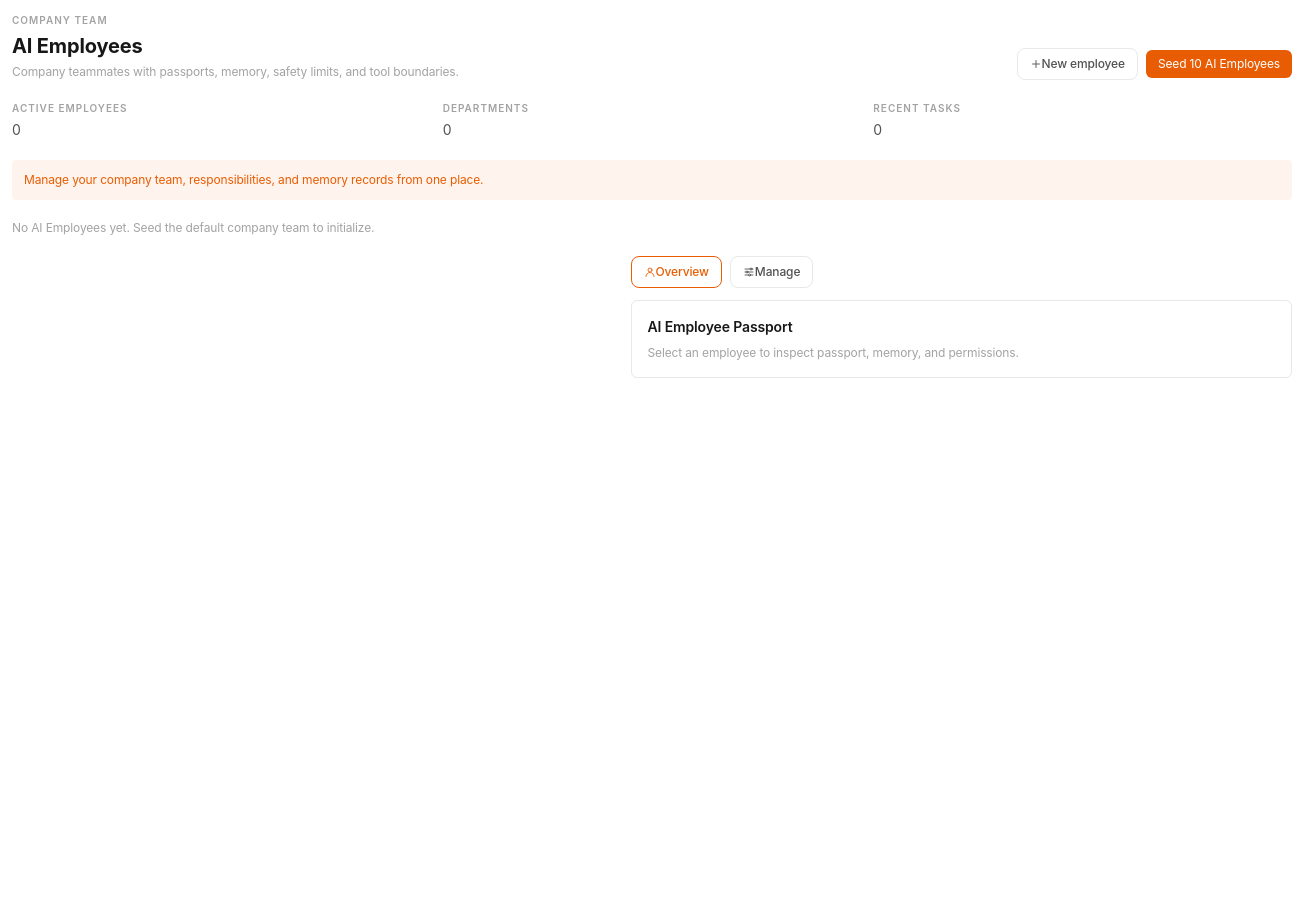
AI Employee passports › preserves the seed action for initializing the default employee team
The image size is (1304, 912).
Click the button "Seed 10 AI Employees" at (1219, 64), box [1146,50,1292,78]
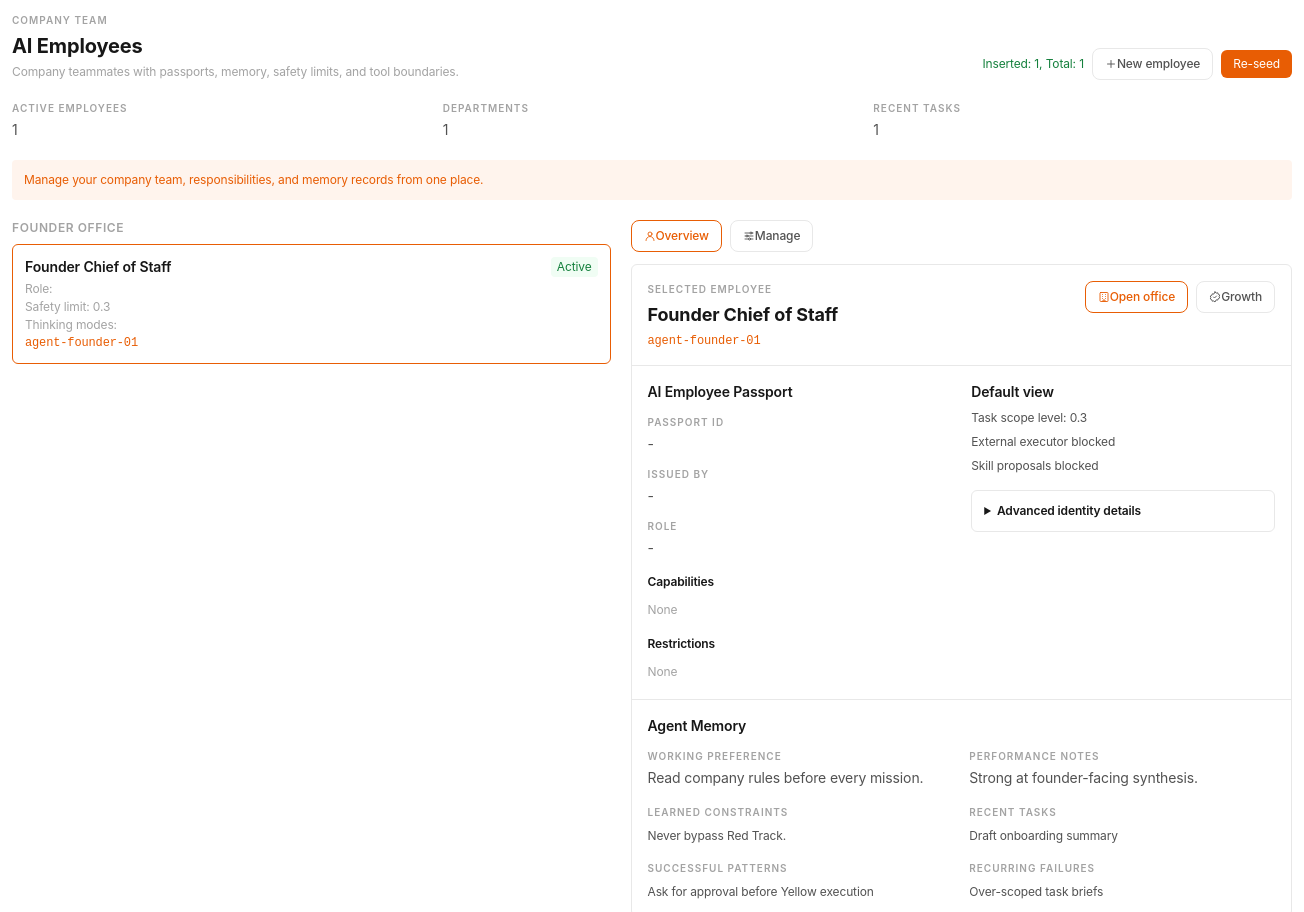
Now the text "Inserted: 1, Total: 1" is shown, box [982,56,1084,72]
Now the button "Founder Chief of Staff" is shown, box [12,244,610,364]
